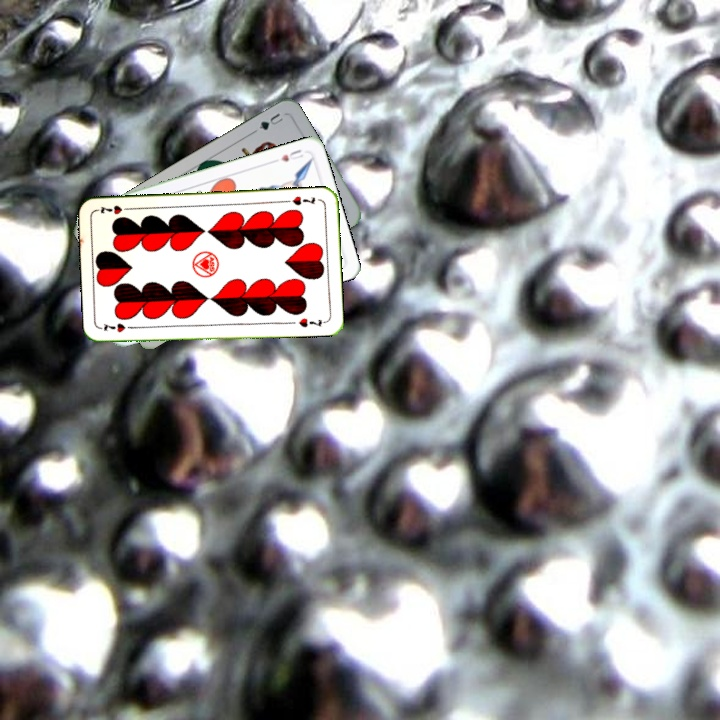GU: (255, 109, 286, 133)
H7: (98, 320, 139, 335), (281, 192, 318, 208)
HU: (277, 145, 306, 164)
